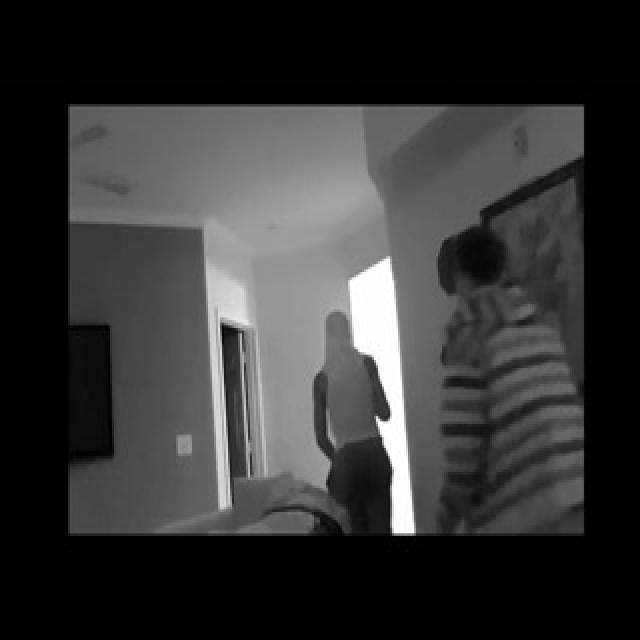thief: (427, 216, 551, 413), (306, 305, 386, 443)
